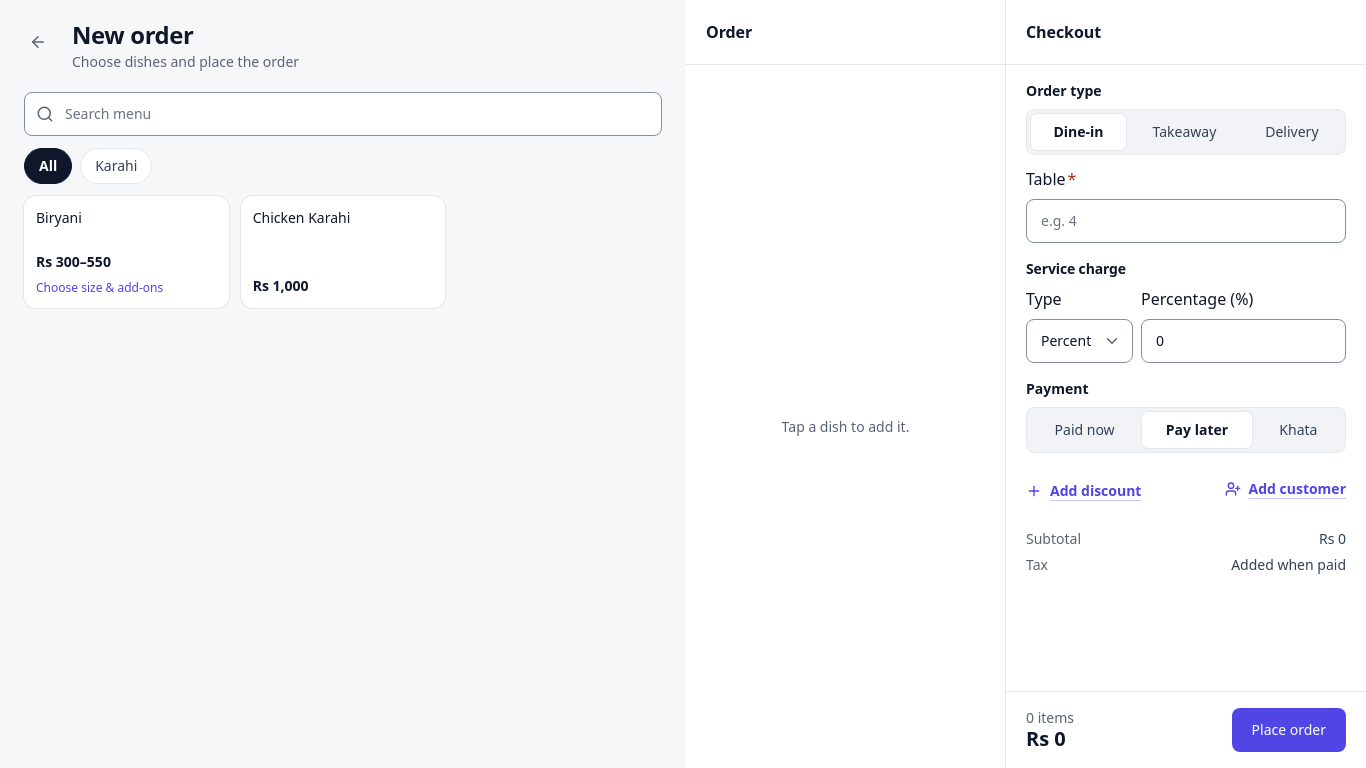
Test: New order (desktop) › uses fixed service charge and does not charge delivery for it
The width and height of the screenshot is (1366, 768).
expect the text "Chicken Karahi" is shown: met, box 253,208 -> 350,228
Click the button "Chicken Karahi Rs 1,000". click: click(343, 252)
box: 241,196 -> 445,308
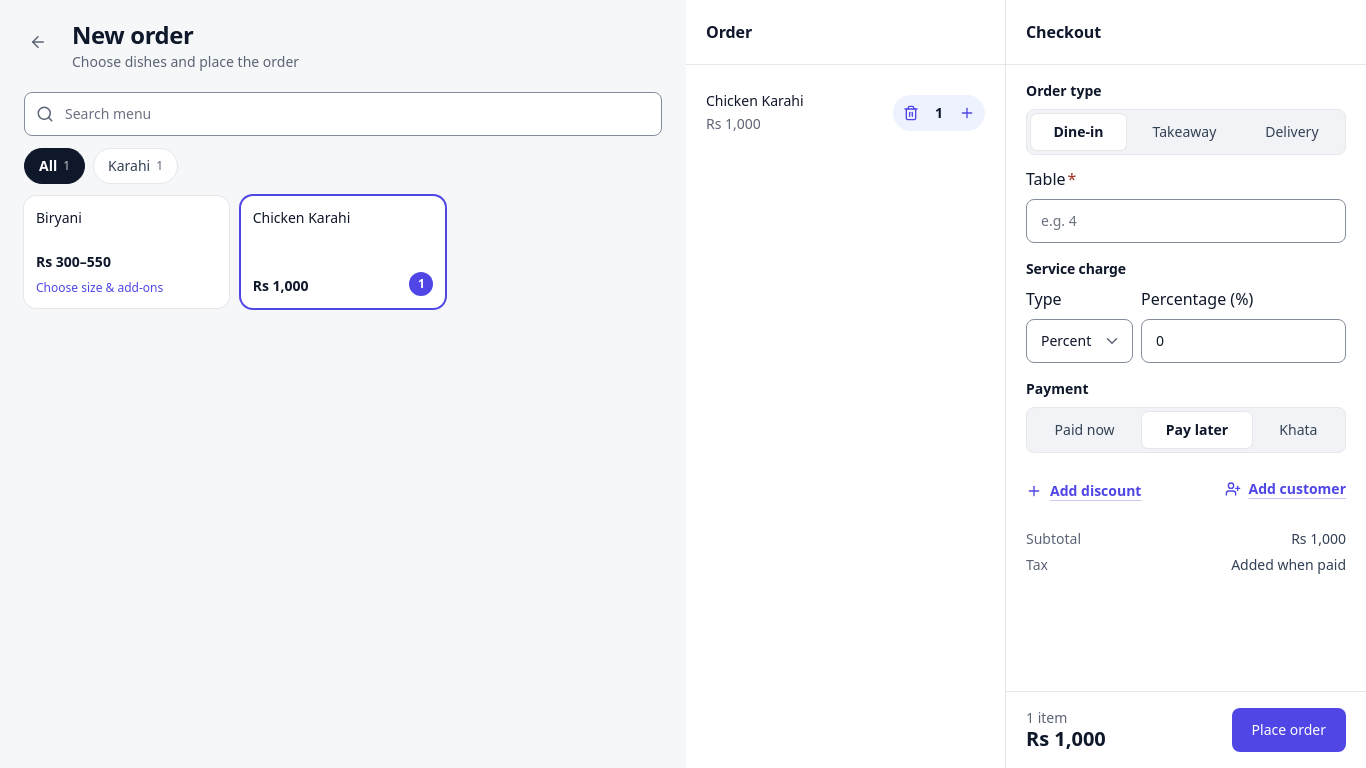
Select "Fixed" in the dropdown named "Charge type". click: (1080, 341)
box: 1026,319 -> 1133,363
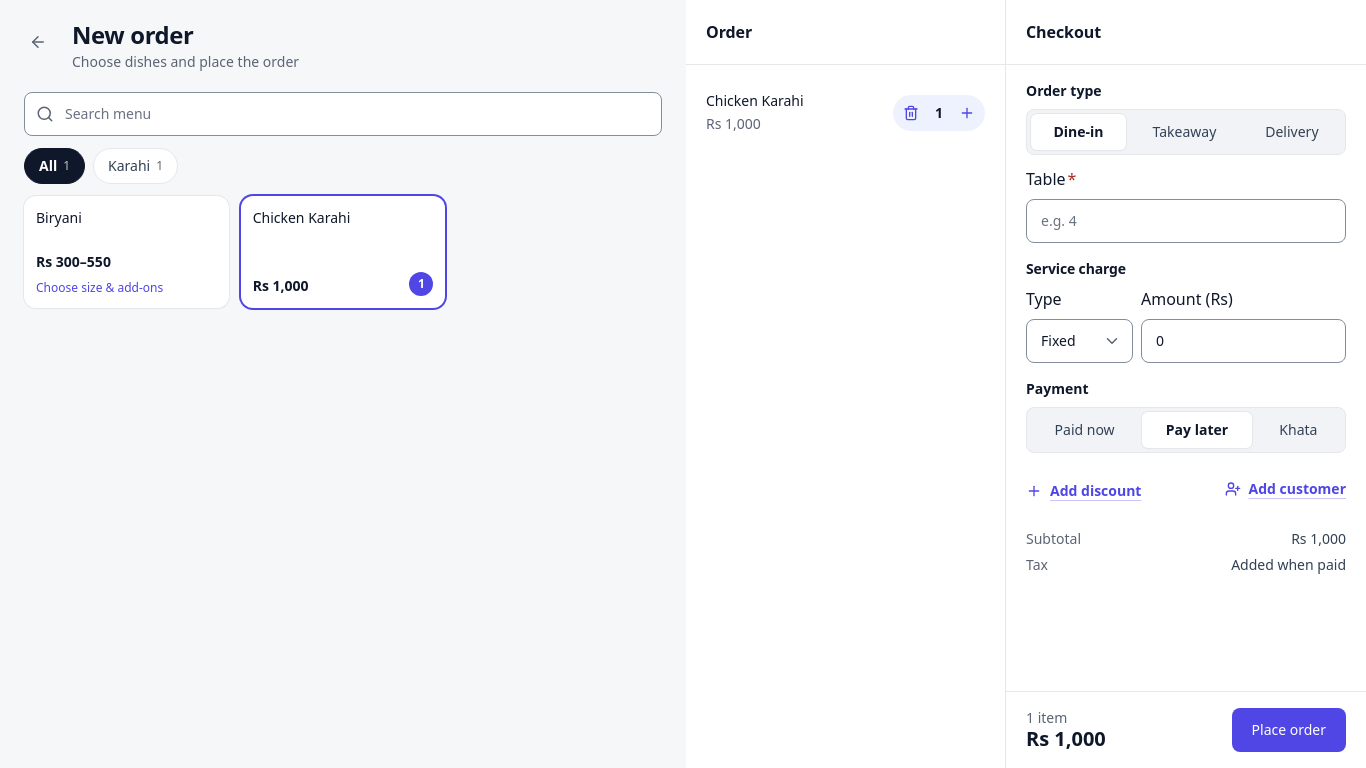
Type "175" into the number field labelled "Amount (Rs)". click: (1244, 341)
box: 1141,319 -> 1346,363
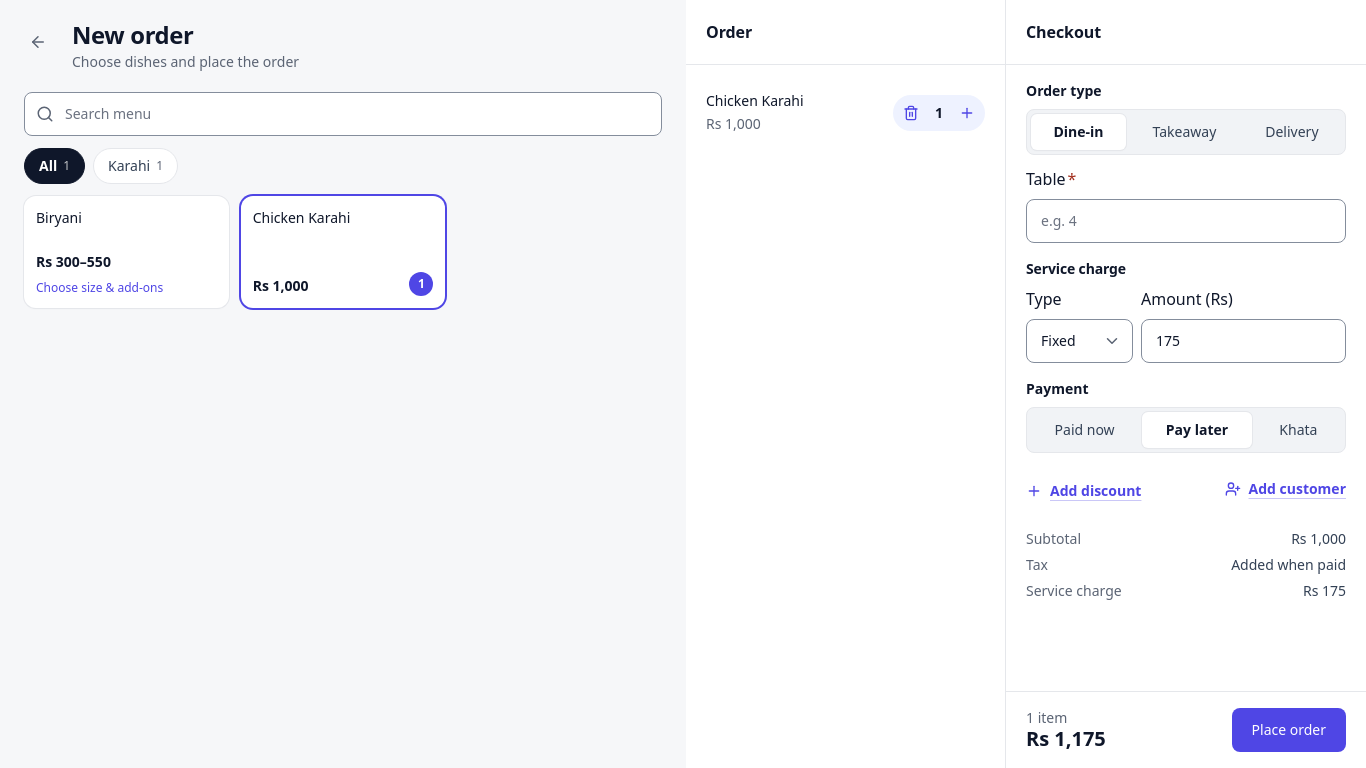
expect the text "Rs 1,175" is shown: met, box 1026,725 -> 1106,752
Click the radio button labelled "Delivery". click: click(1292, 132)
box: 1265,122 -> 1319,141
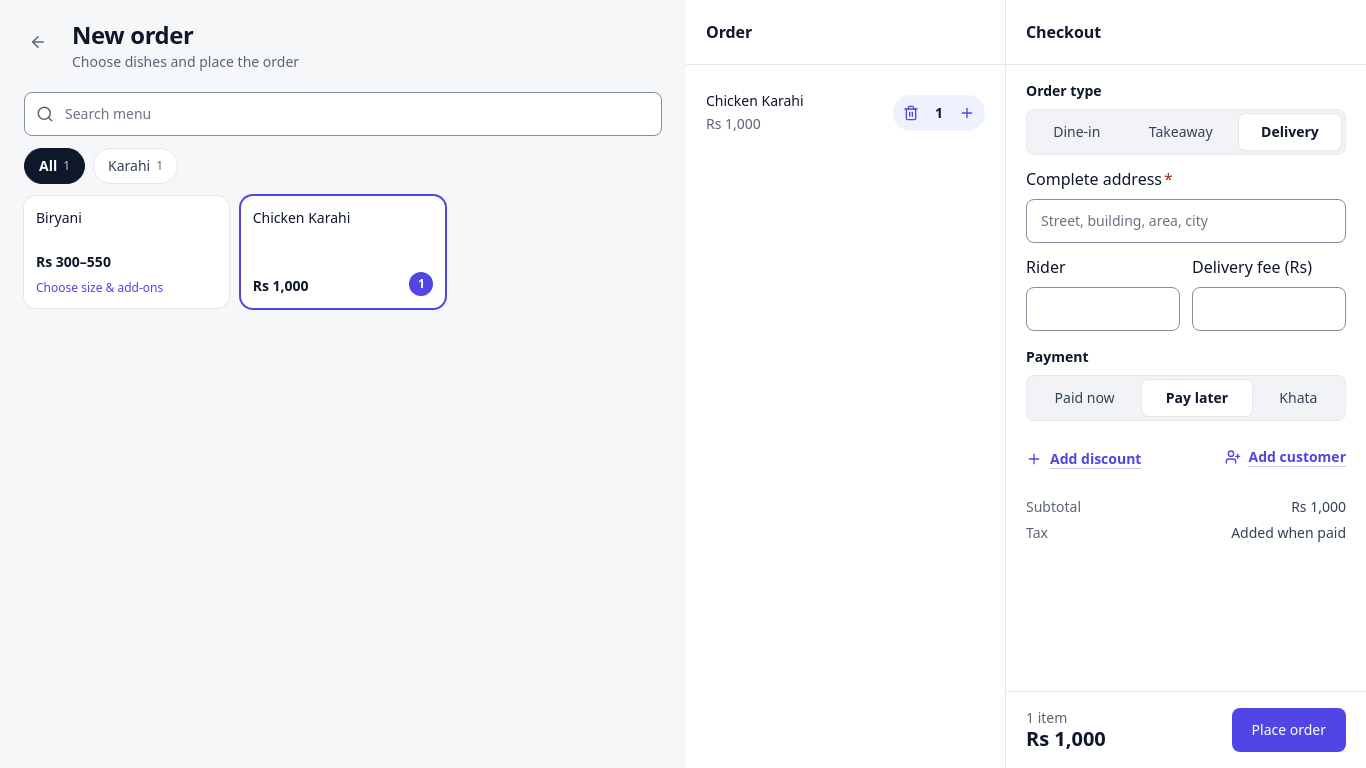
expect the text "Rs 1,000" below "All" is shown: met, box 253,276 -> 309,295
expect the text labelled "Amount (Rs)" is gone: met
